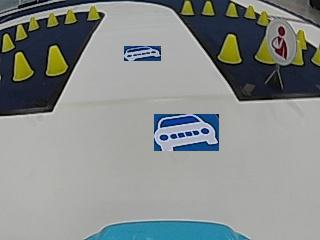cone: (218, 34, 241, 64), (46, 45, 67, 76), (254, 32, 274, 64), (13, 52, 33, 80), (2, 32, 15, 51), (311, 43, 320, 65), (180, 1, 194, 15), (256, 10, 269, 25), (16, 23, 28, 39), (64, 9, 77, 23), (202, 1, 215, 15), (87, 5, 99, 20), (226, 2, 238, 17), (46, 12, 58, 26), (28, 15, 39, 30), (244, 4, 255, 18)
patient: (269, 18, 294, 61)
